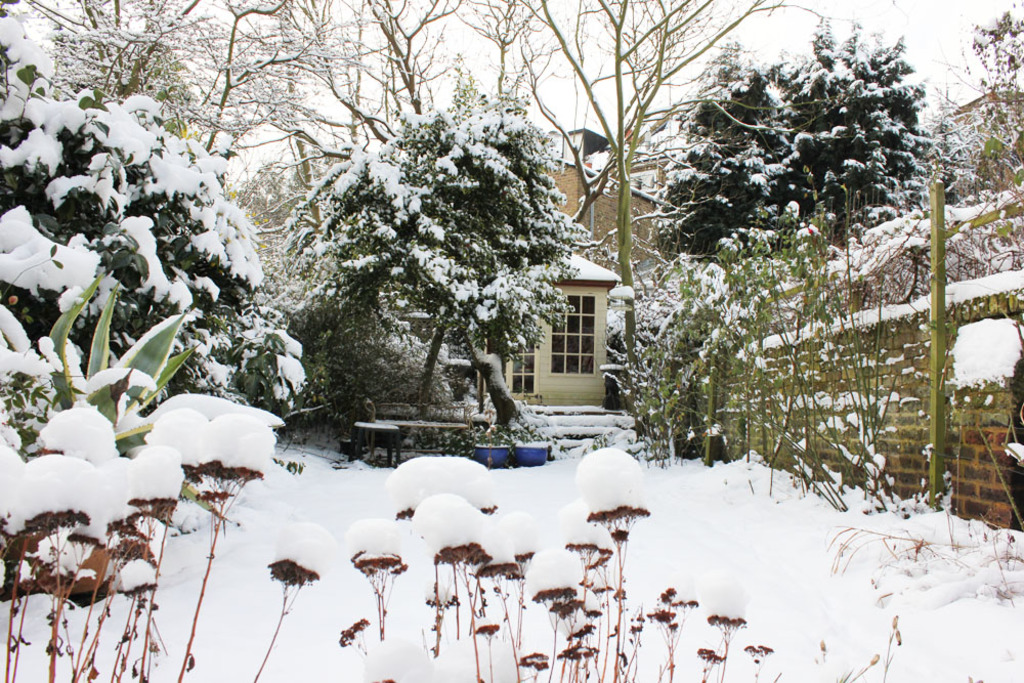Tree: (282, 106, 603, 451), (641, 25, 955, 276)
